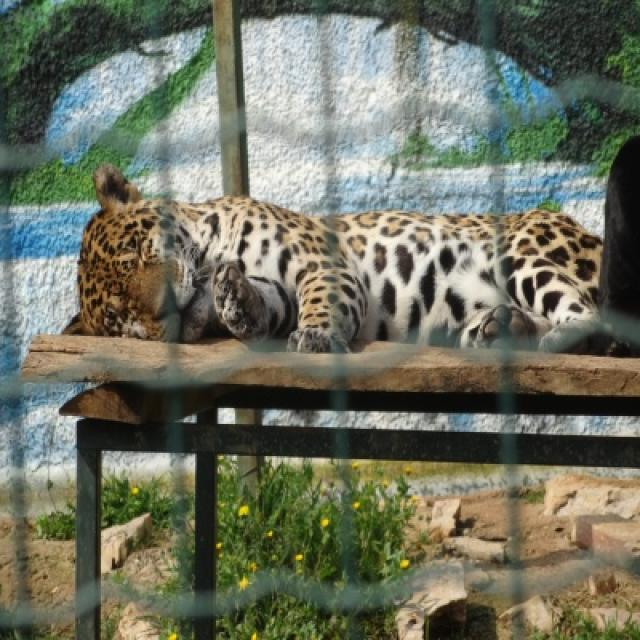Jaguar: (67, 170, 360, 355)
